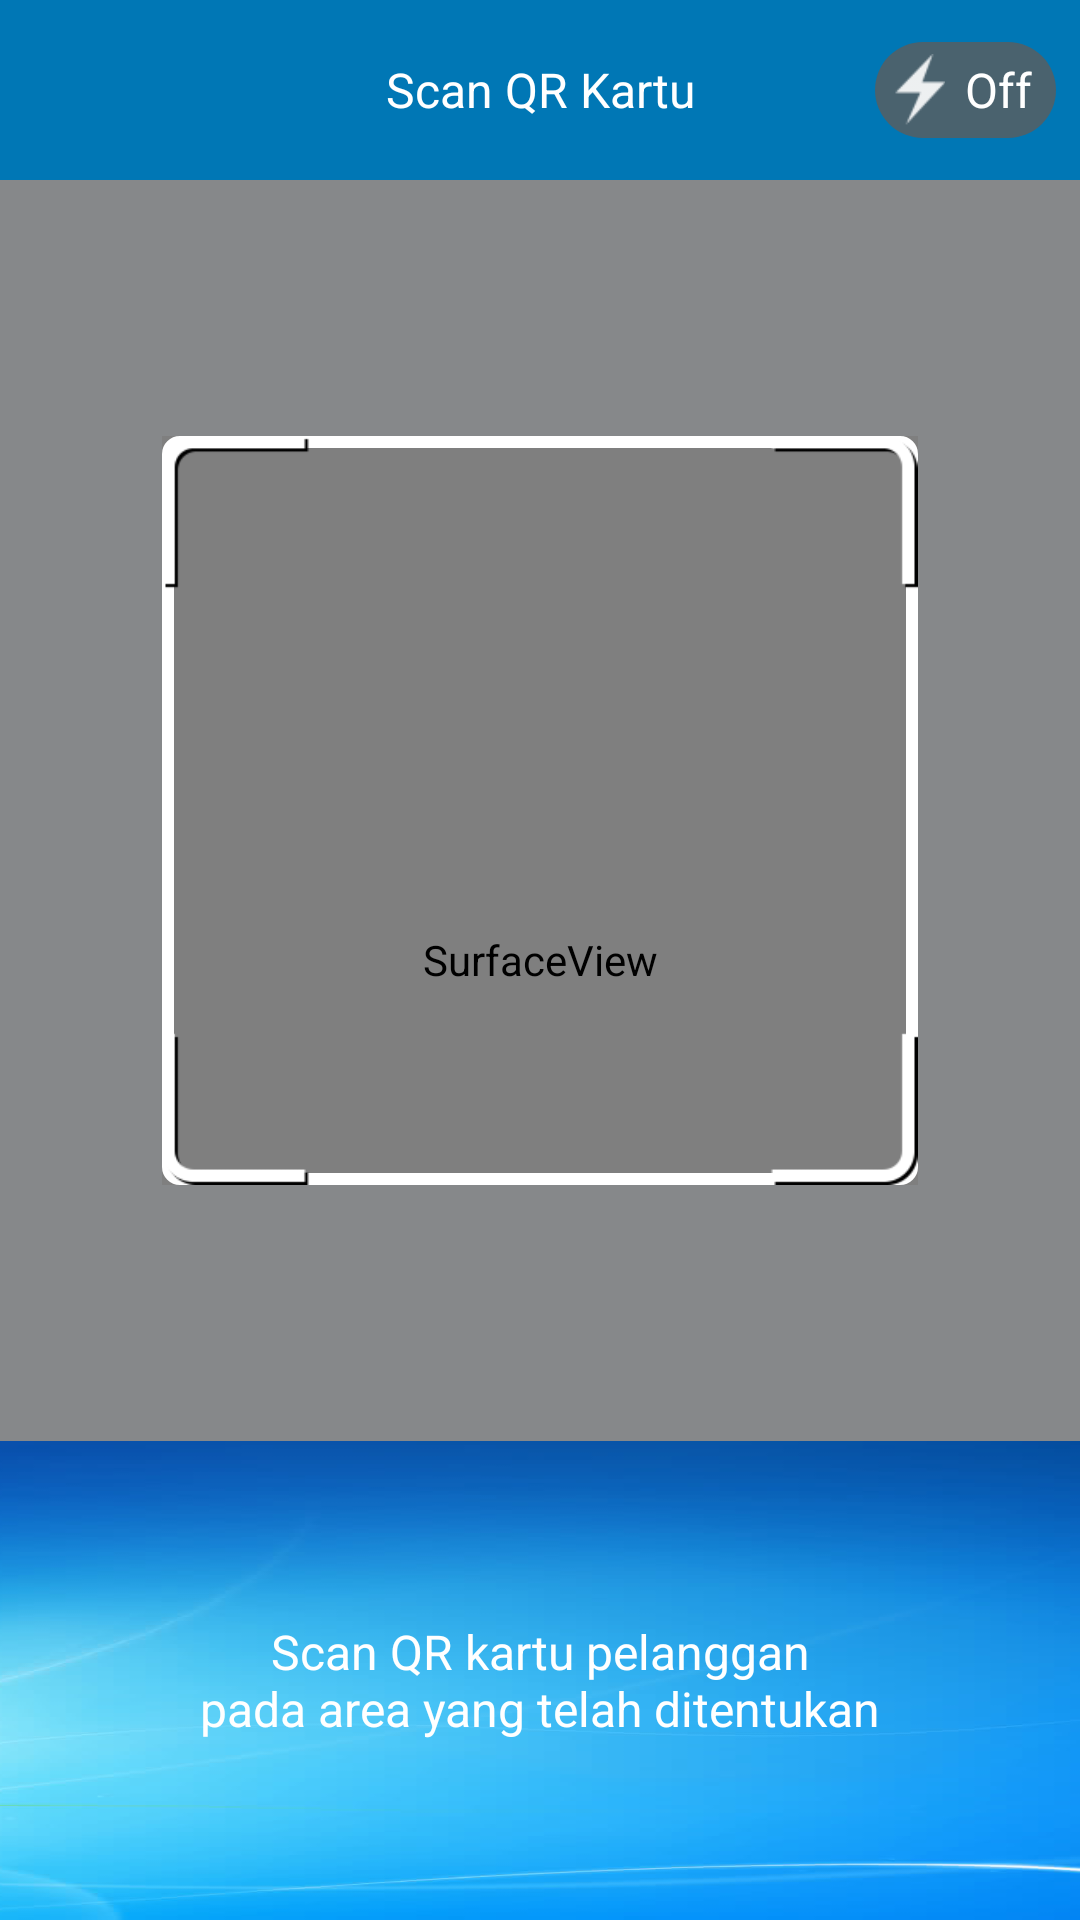

Where icons sit on this 1080*1920 app screen, as [x1,y1,x2,y2]:
flash: [895,54,945,124]
